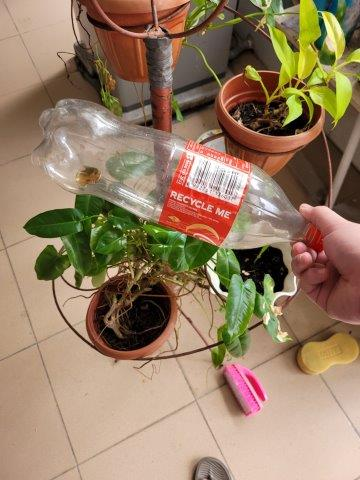botolplastik: (31, 99, 324, 254)
